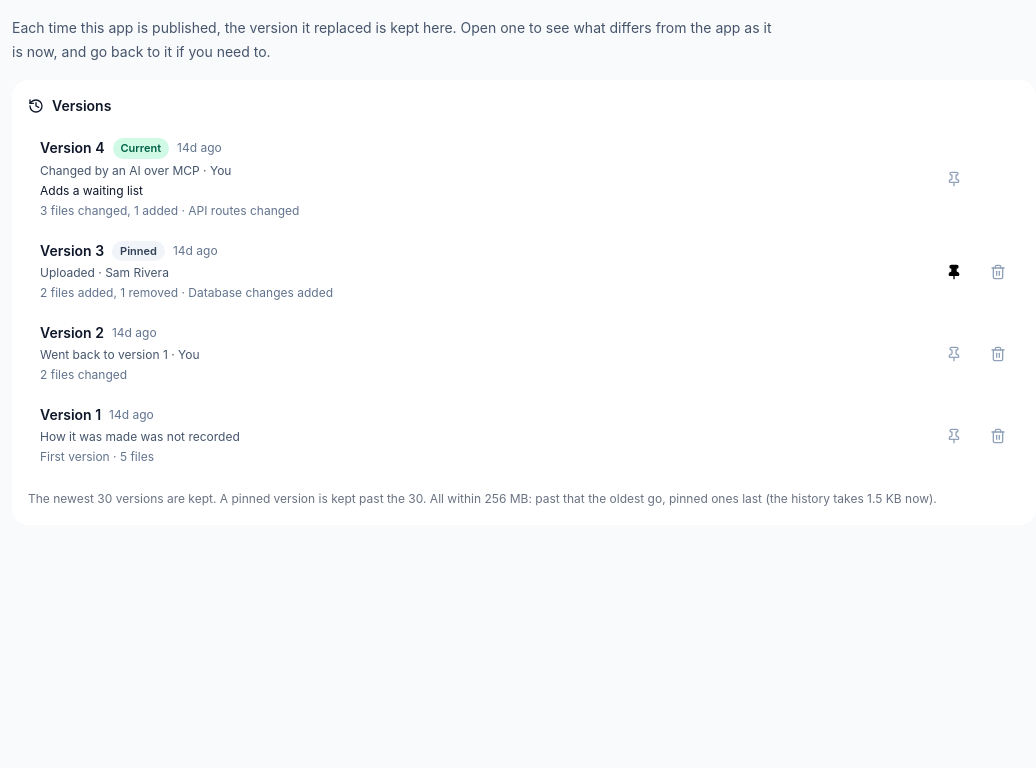
Test case: the list › pins and unpins a version from its row, and says why when it cannot
Click the button named "Pin version 2": (954, 354) [932, 313, 976, 395]
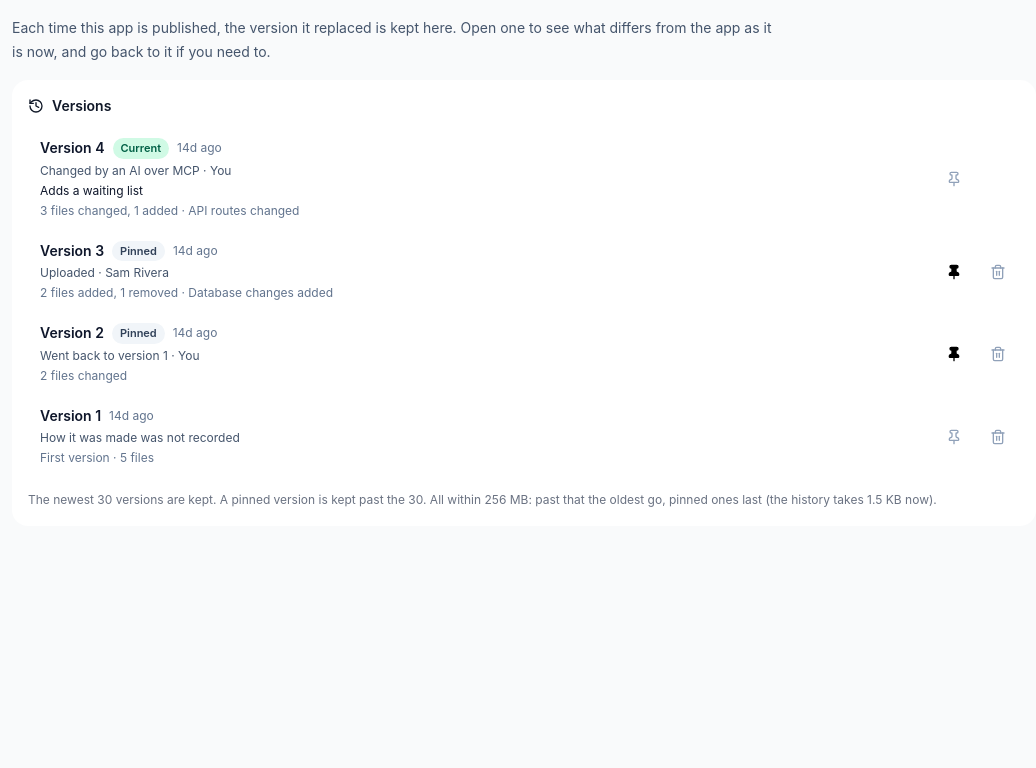
Click the button named "Pin version 1": (954, 436) [932, 396, 976, 478]
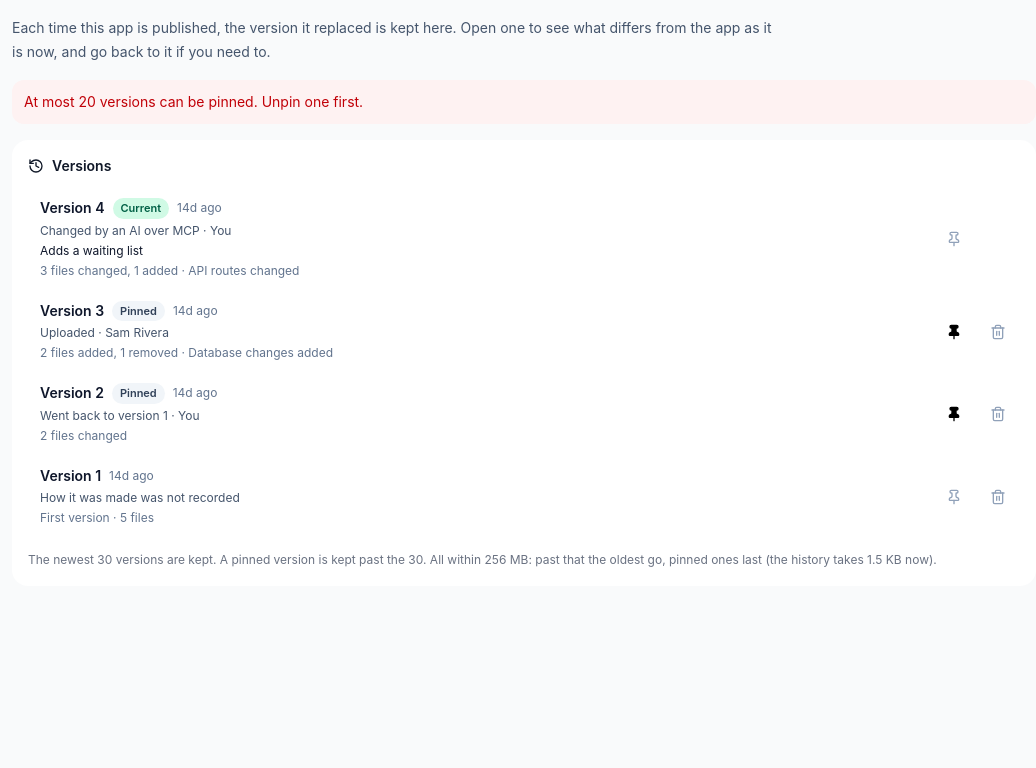
Expected: the message "At most 20 versions can be pinned. Unpin one first." is shown, [12, 80, 1035, 124]
Click the button named "Unpin version 3": (954, 332) [932, 290, 976, 373]
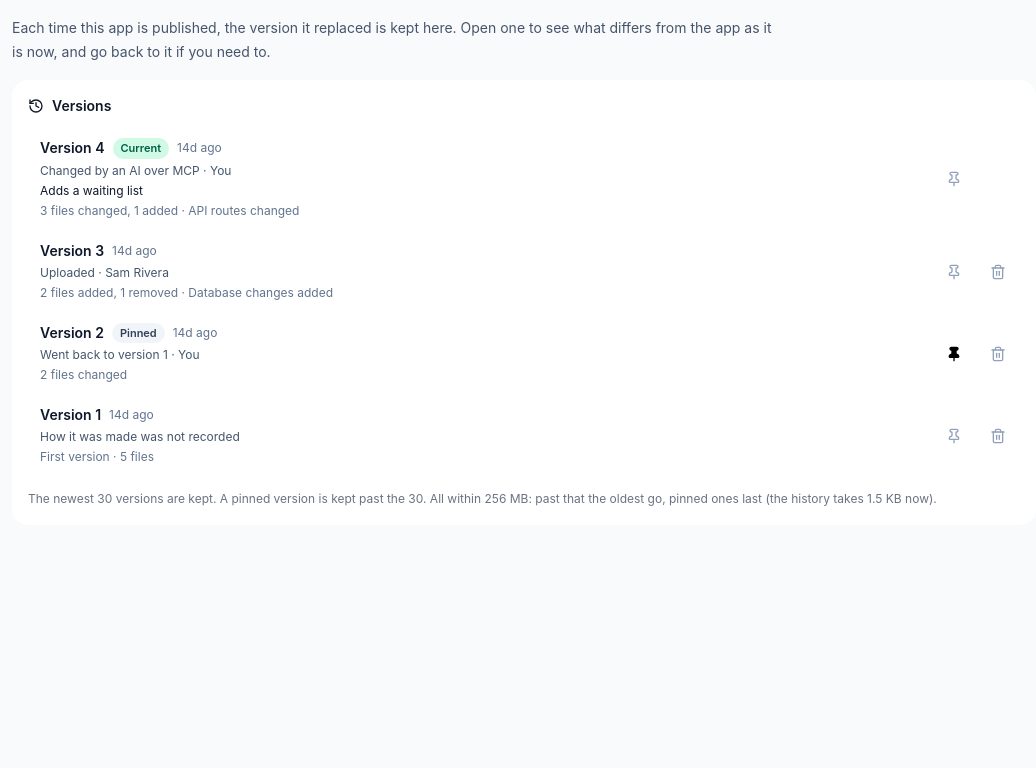
Expected: the message "At most 20 versions can be pinned. Unpin one first." is gone
